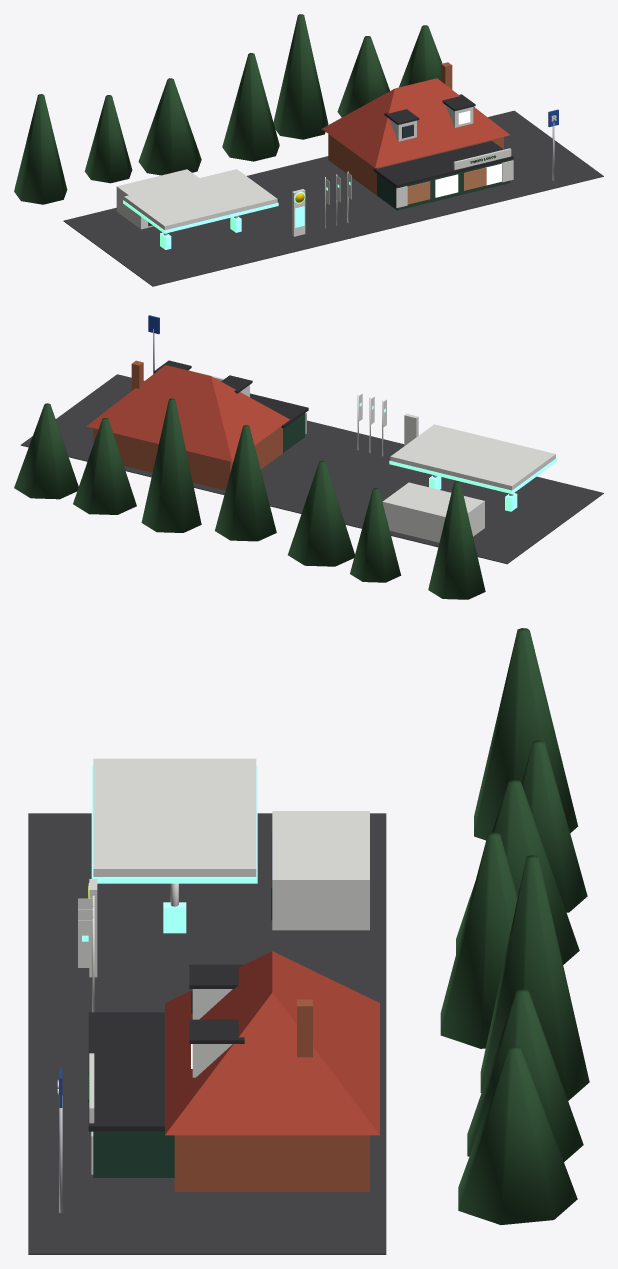
Rendered from lm_tokkolocco.glb.
3 renders of one model, top to bottom at view 1: azimuth 30°, elevation 25°; view 2: azimuth 150°, elevation 25°; view 3: azimuth 270°, elevation 25°, orthographic. The views are drawn at different scales.
Parts seen in each view (by area): view 1: forecourt, roof, canopy, tree4, tree3, tree2, tree0, tree1, annex_roof, tree5, house, tree6 (+8 smaller); view 2: forecourt, roof, canopy, tree4, tree3, tree2, tree0, tree6, tree5, shop, house, tree1 (+4 smaller); view 3: forecourt, roof, canopy, tree6, shop, house, tree4, tree3, annex_roof, tree0, tree5, tree1 (+6 smaller).
Part boxes in pixels (x1,y1,x2,y2): forecourt: (63, 110, 603, 286); roof: (322, 78, 510, 167); canopy: (124, 169, 277, 230); tree4: (273, 14, 328, 139); tree3: (222, 53, 279, 161); tree2: (138, 78, 201, 175); tree0: (14, 94, 67, 204); tree1: (84, 95, 132, 183); annex_roof: (373, 141, 513, 187); tree5: (337, 36, 389, 117); house: (328, 134, 503, 195); tree6: (399, 25, 442, 87); forecourt: (20, 374, 603, 564); roof: (86, 365, 289, 461); canopy: (390, 424, 555, 490); tree4: (141, 398, 201, 532); tree3: (215, 425, 276, 541); tree2: (288, 460, 354, 566); tree0: (428, 481, 485, 599); tree6: (14, 403, 78, 499); tree5: (73, 418, 136, 514); shop: (382, 482, 484, 542); house: (93, 426, 282, 490); tree1: (350, 488, 401, 582); forecourt: (28, 813, 386, 1254); roof: (165, 951, 379, 1135); canopy: (93, 758, 256, 876); tree6: (458, 1046, 577, 1224); shop: (272, 811, 369, 930); house: (174, 1135, 369, 1191); tree4: (480, 855, 589, 1100); tree3: (440, 832, 517, 1048); annex_roof: (88, 1012, 164, 1131); tree0: (474, 628, 578, 840); tree5: (467, 989, 583, 1161); tree1: (521, 740, 587, 912).
Bounding box in the file's own units: 65.57 × 15.21 × 34.49.
